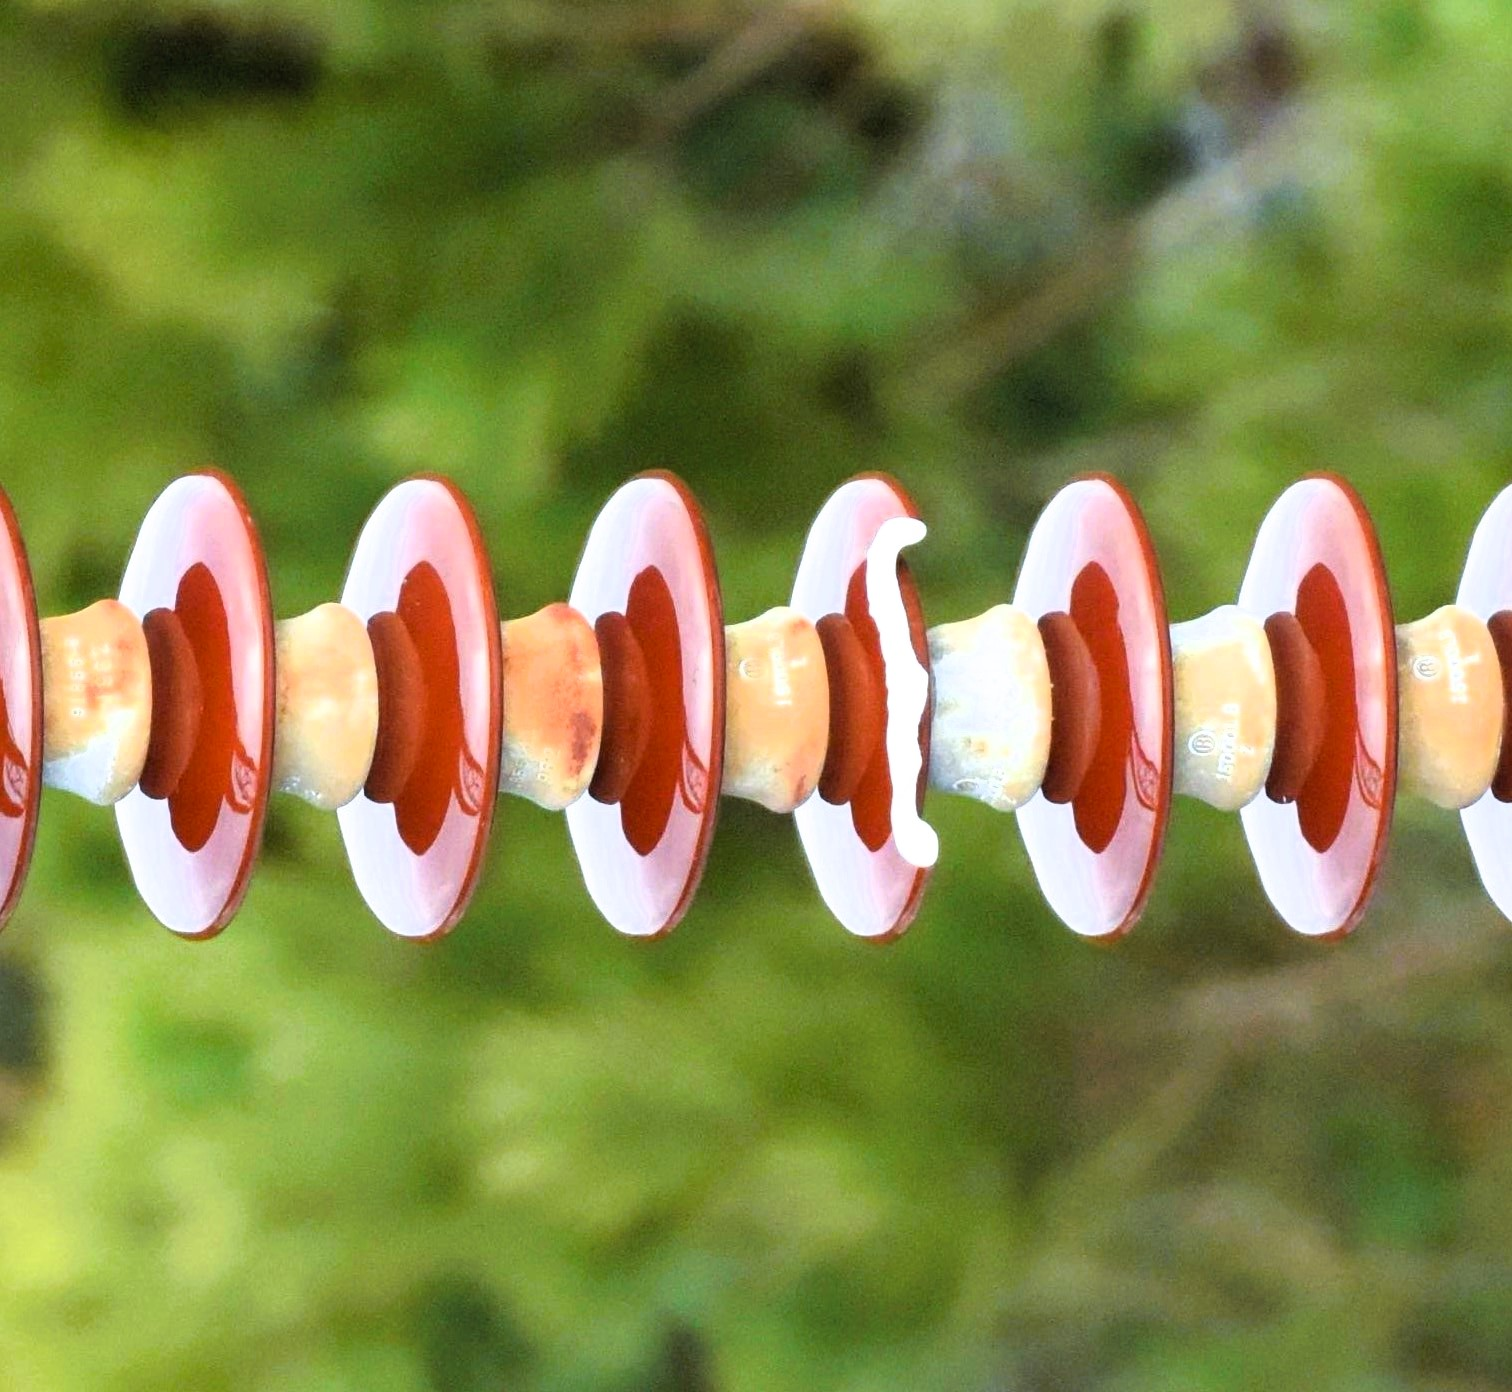insulator breakage: (788, 449, 956, 960)
